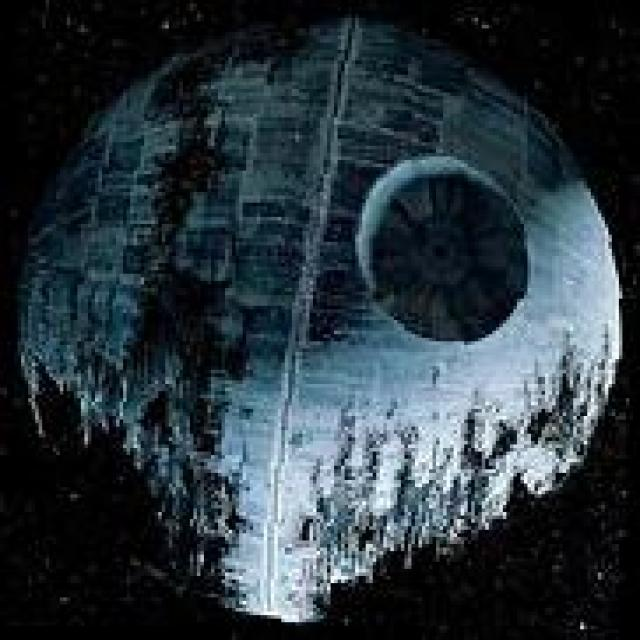Death Star: (7, 4, 629, 622)
